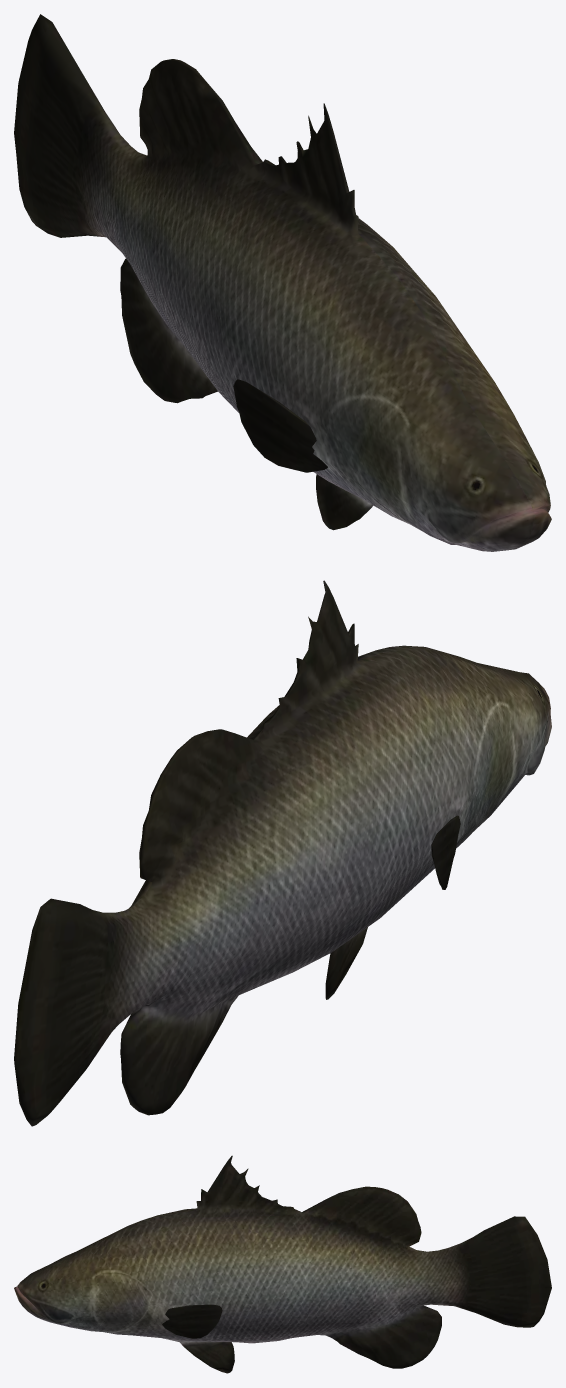
The model's file is barramundi.glb.
3 renders of one model, top to bottom at view 1: azimuth 30°, elevation 25°; view 2: azimuth 150°, elevation 25°; view 3: azimuth 270°, elevation 25°, orthographic. The views are drawn at different scales.
Visible parts, largest first — view 1: BarramundiFish; view 2: BarramundiFish; view 3: BarramundiFish.
Part boxes in pixels (box(x1,y1,x2,y2)): BarramundiFish: box(14, 14, 551, 551); BarramundiFish: box(14, 580, 551, 1126); BarramundiFish: box(14, 1155, 551, 1373).
Size of the model in its own units: 0.1426 by 0.2875 by 0.6431.
Materials: 1 (1 with a texture image).
